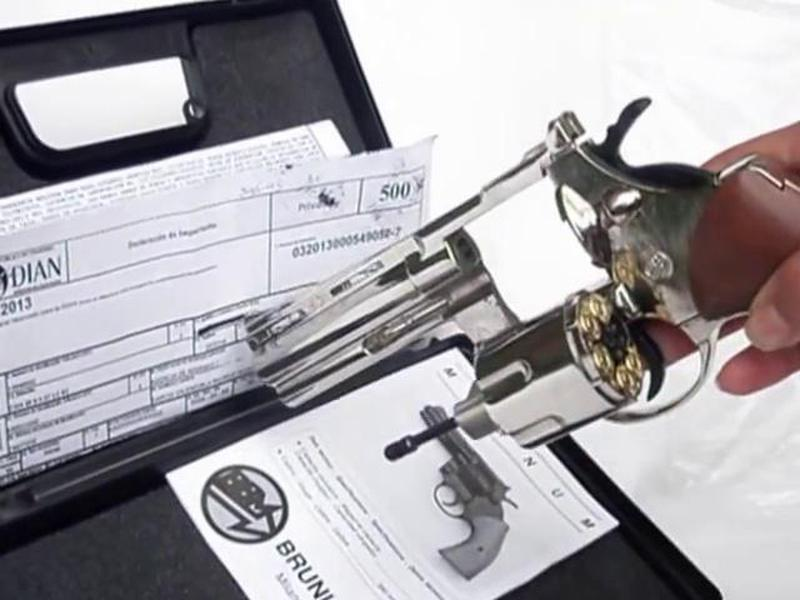Revolver: (227, 116, 800, 422)
